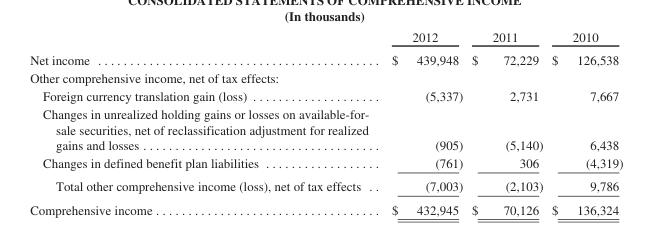table: (29, 28, 622, 216)
table column: (29, 28, 379, 216), (379, 28, 466, 216), (466, 28, 546, 216), (546, 28, 622, 216)
table column header: (29, 28, 622, 47)
table projected row header: (29, 68, 622, 86)
table row: (29, 104, 622, 153), (29, 174, 622, 197), (29, 47, 622, 68), (29, 153, 622, 174), (29, 28, 622, 47), (29, 197, 622, 216), (29, 68, 622, 86), (29, 86, 622, 104)
